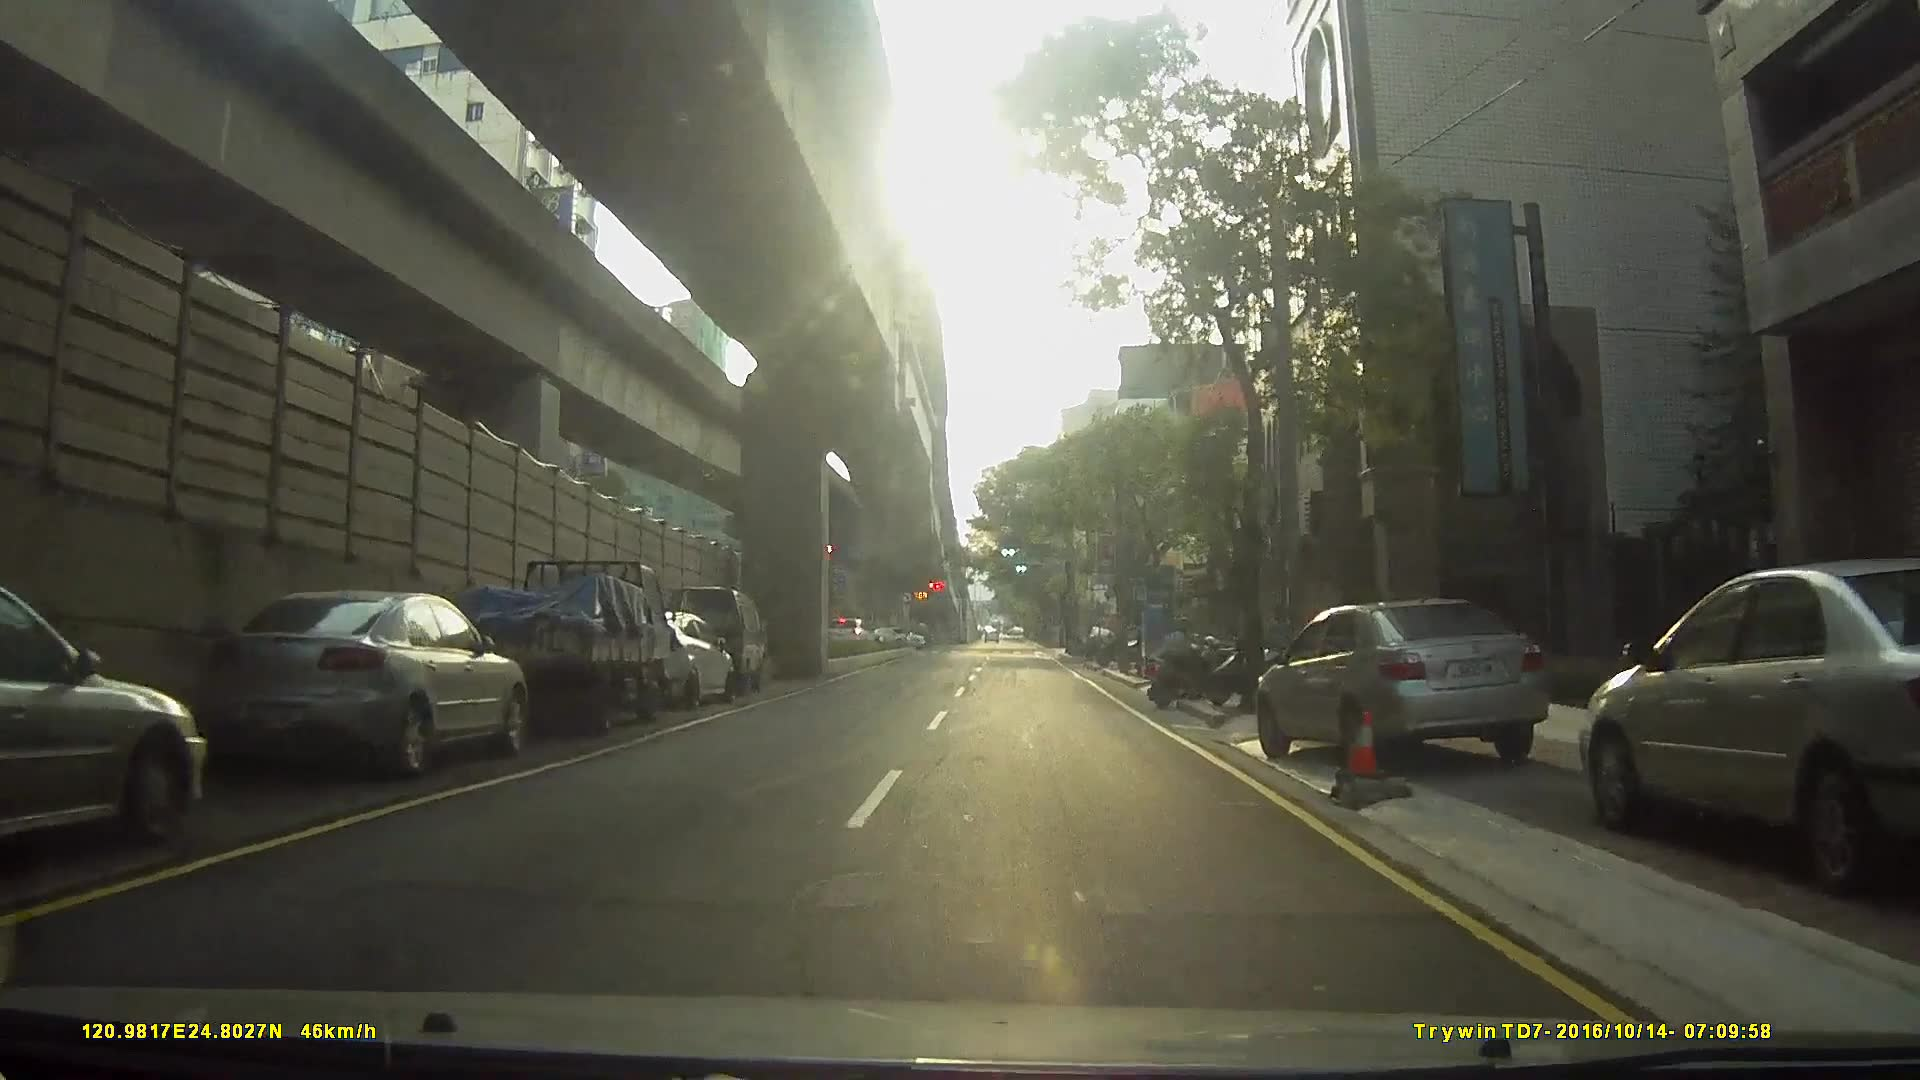rider: (1147, 619, 1230, 712)
vehicle: (1569, 552, 1917, 903), (198, 583, 523, 795), (1245, 593, 1551, 779), (1, 589, 204, 869), (436, 559, 707, 732), (598, 606, 734, 714), (661, 584, 769, 695), (821, 614, 876, 650)
